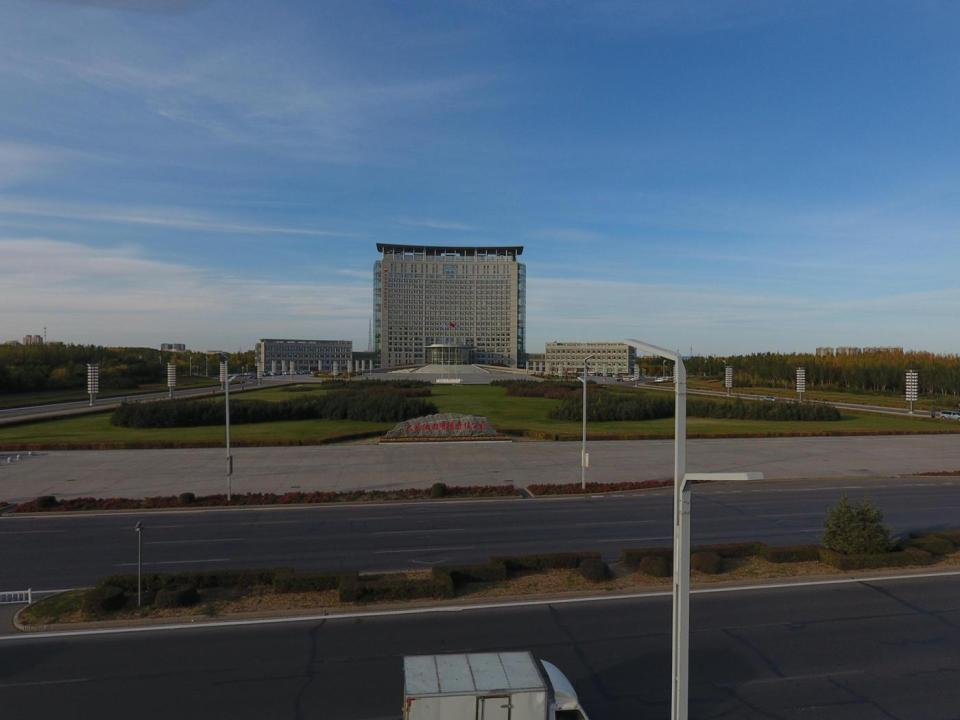car: (938, 411, 960, 421), (761, 396, 778, 403)
truck: (400, 647, 594, 720)
